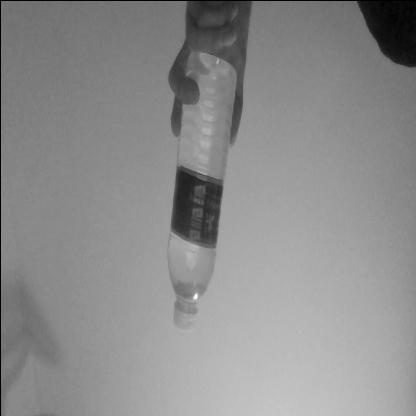plastic_bottles: (165, 47, 237, 332)
